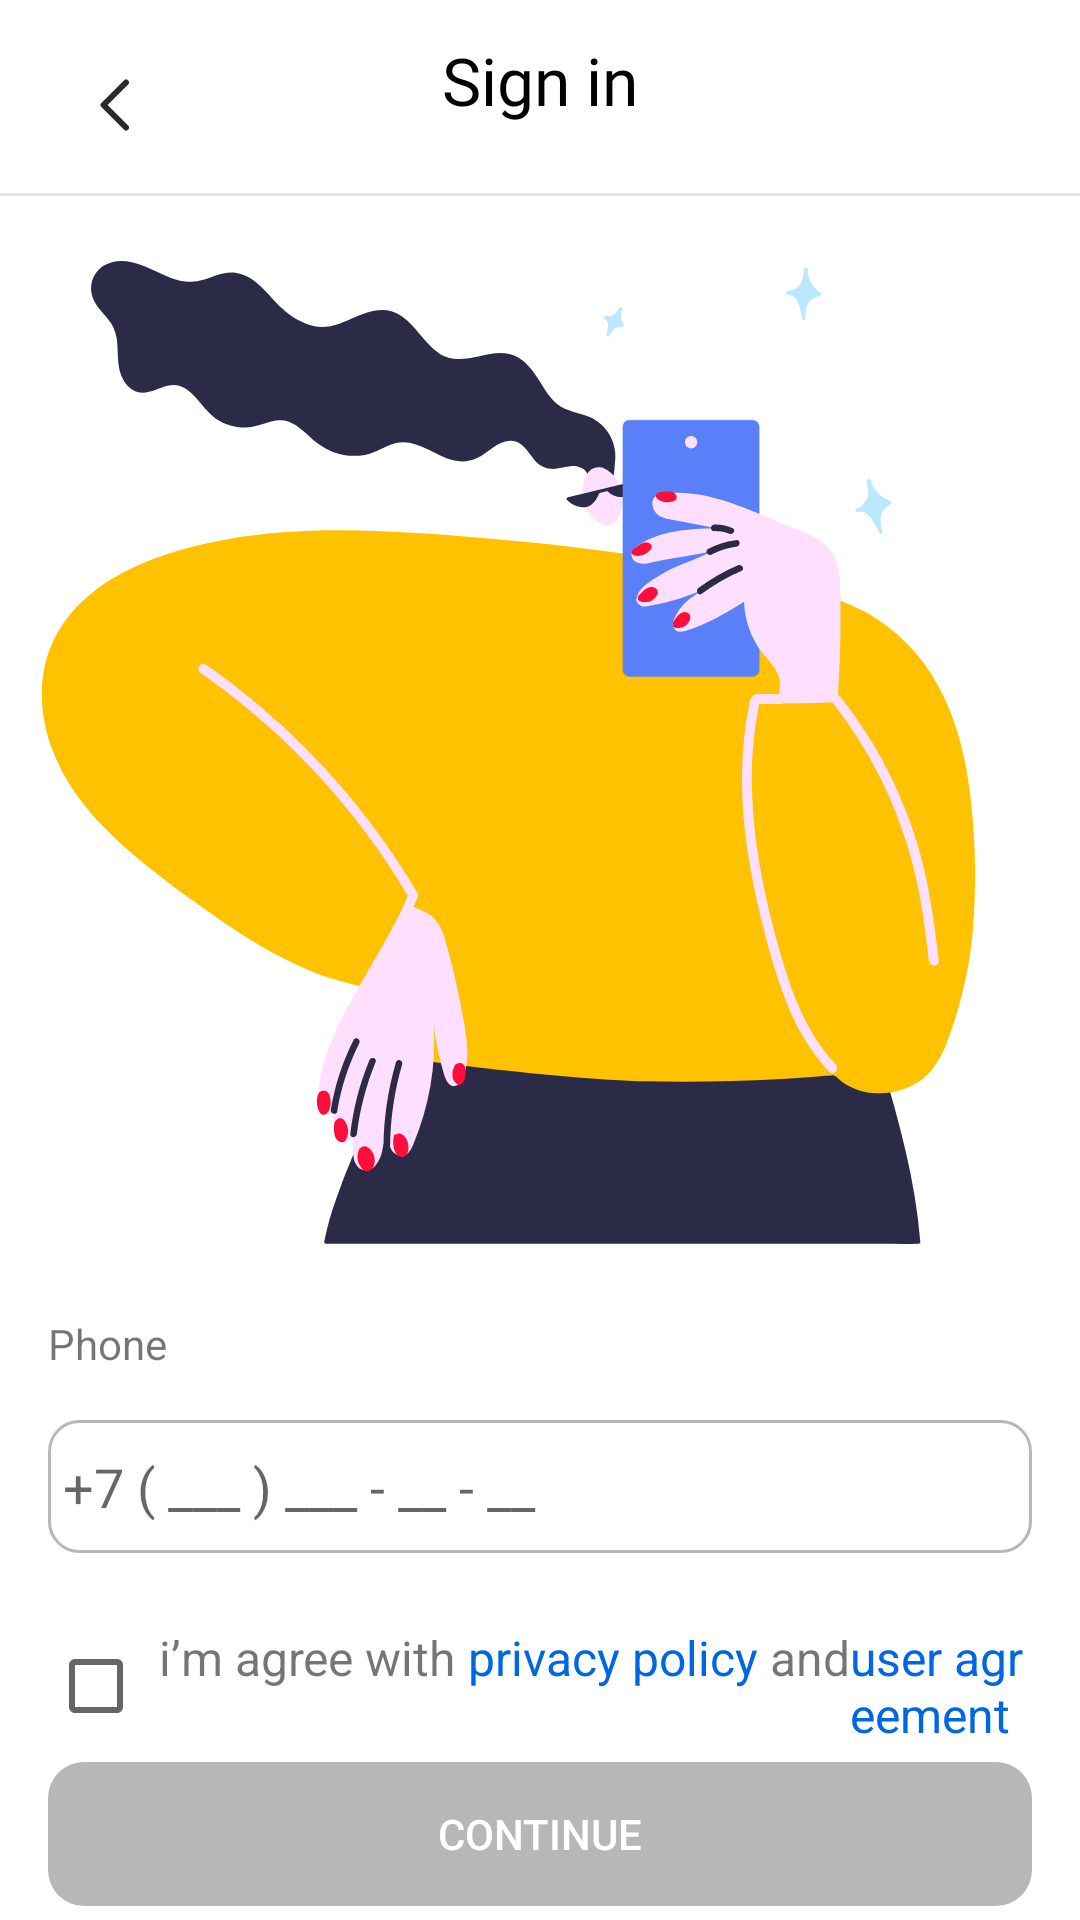

Where icons sit on this 1080 x 1920 app screen, as (x1, y1, x2, y2):
back: (100, 79, 129, 131)
